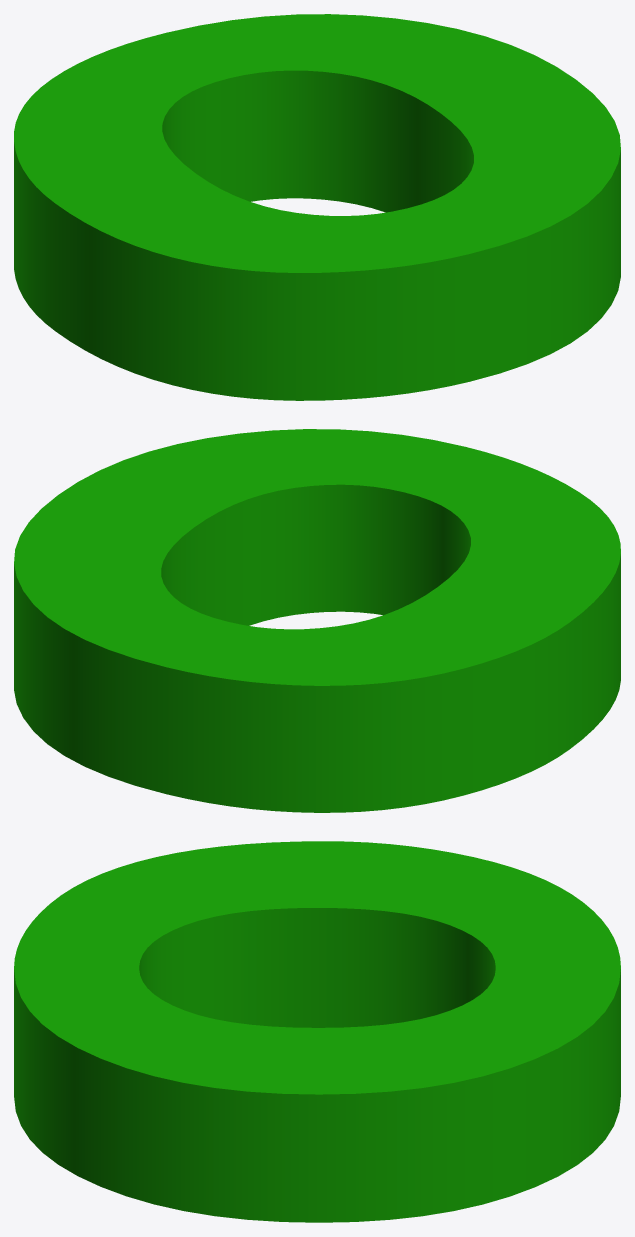
The model's file is huruf o biasa.FBX.
3 views of the same model, one above another, from view 1: azimuth 30°, elevation 25°; view 2: azimuth 150°, elevation 25°; view 3: azimuth 270°, elevation 25° (orthographic).
Parts seen in each view (by area): view 1: Text001; view 2: Text001; view 3: Text001.
Part boxes in pixels (x1=…): Text001: x1=14, y1=14, x2=620, y2=400; Text001: x1=14, y1=429, x2=620, y2=812; Text001: x1=14, y1=841, x2=620, y2=1222.
Bounding box in the file's own units: 27.55 × 6.5 × 27.89.
